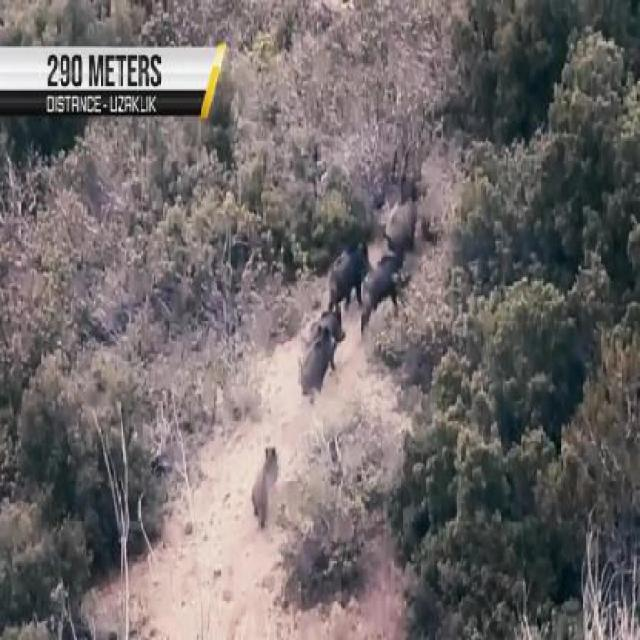pig: (294, 297, 340, 428), (364, 230, 424, 328), (314, 230, 373, 302)
